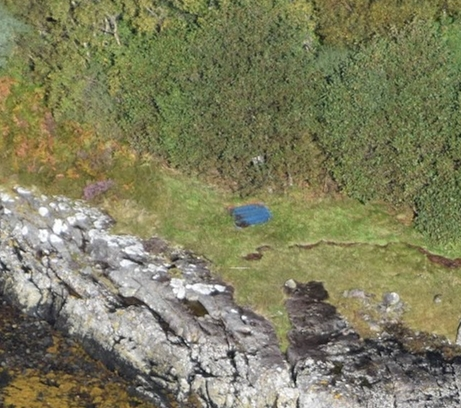white_in_green: (209, 183, 287, 247)
